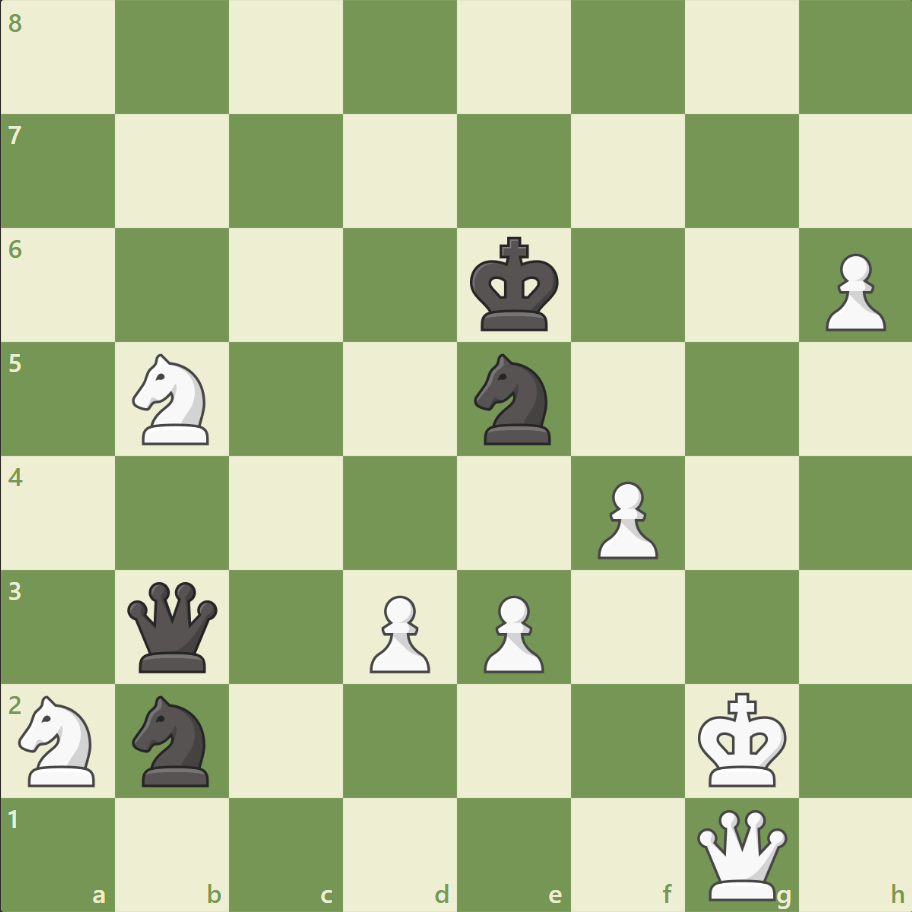K: (692, 685, 792, 793)
N: (124, 348, 222, 450), (11, 688, 108, 791)
P: (474, 586, 549, 677), (815, 246, 889, 337), (588, 473, 662, 564), (361, 586, 435, 677)
Q: (691, 804, 790, 903)
k: (465, 231, 565, 339)
n: (124, 688, 222, 791), (465, 348, 562, 450)
q: (124, 576, 223, 676)
